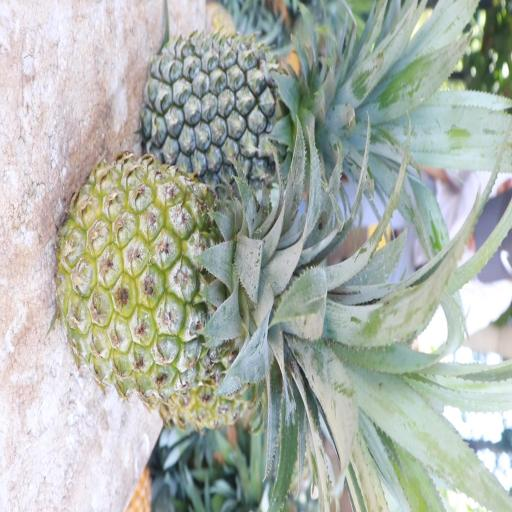------------------------------: (50, 151, 348, 421)
